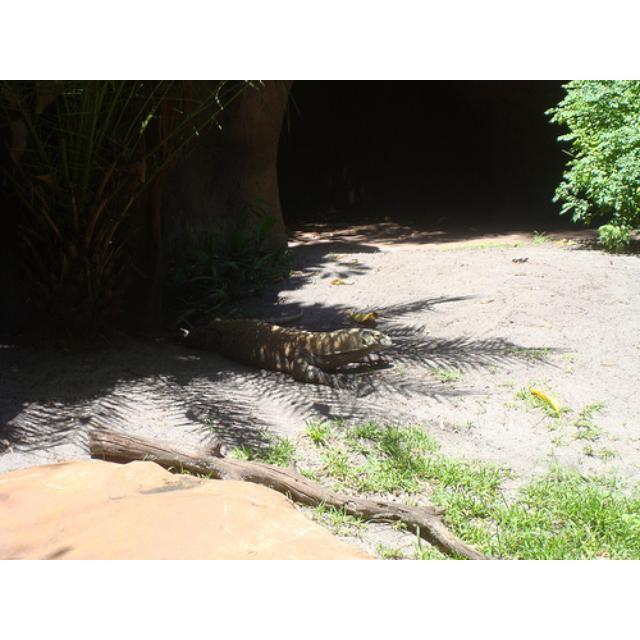KomodoDragon: (185, 303, 392, 386)
